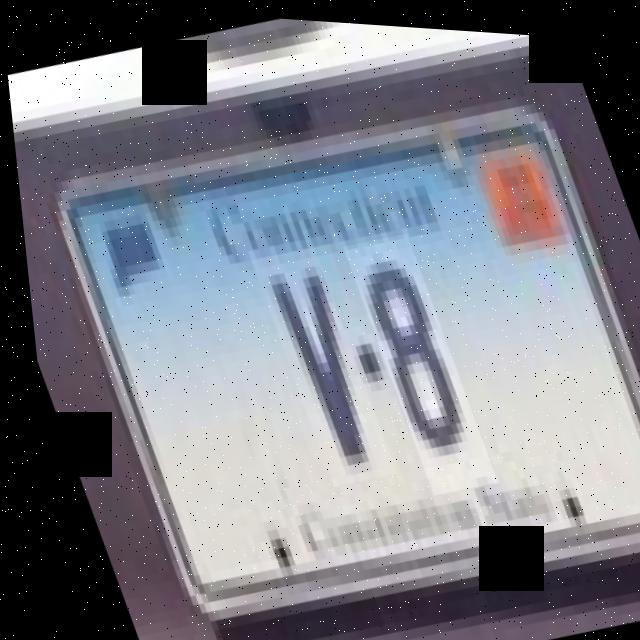8: (336, 224, 489, 493)
V: (241, 230, 389, 486)
